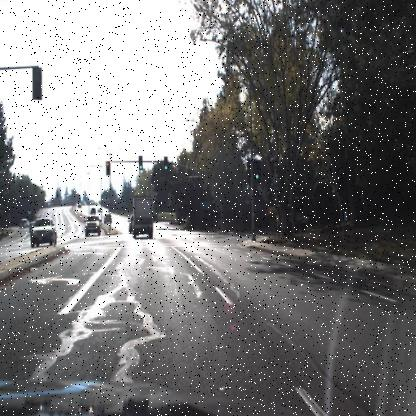car: (273, 208, 311, 236), (275, 210, 312, 233), (30, 217, 57, 247), (83, 216, 100, 236), (127, 211, 135, 235), (128, 213, 134, 236), (103, 213, 111, 224), (20, 219, 28, 228), (90, 206, 97, 216), (29, 220, 34, 233)
trafficLight: (104, 159, 111, 177)
trafficLight-Green: (253, 157, 261, 182), (163, 155, 169, 172), (138, 155, 143, 173)
trafficLight-RedLeft: (105, 160, 111, 176)
truck: (131, 195, 153, 239)
